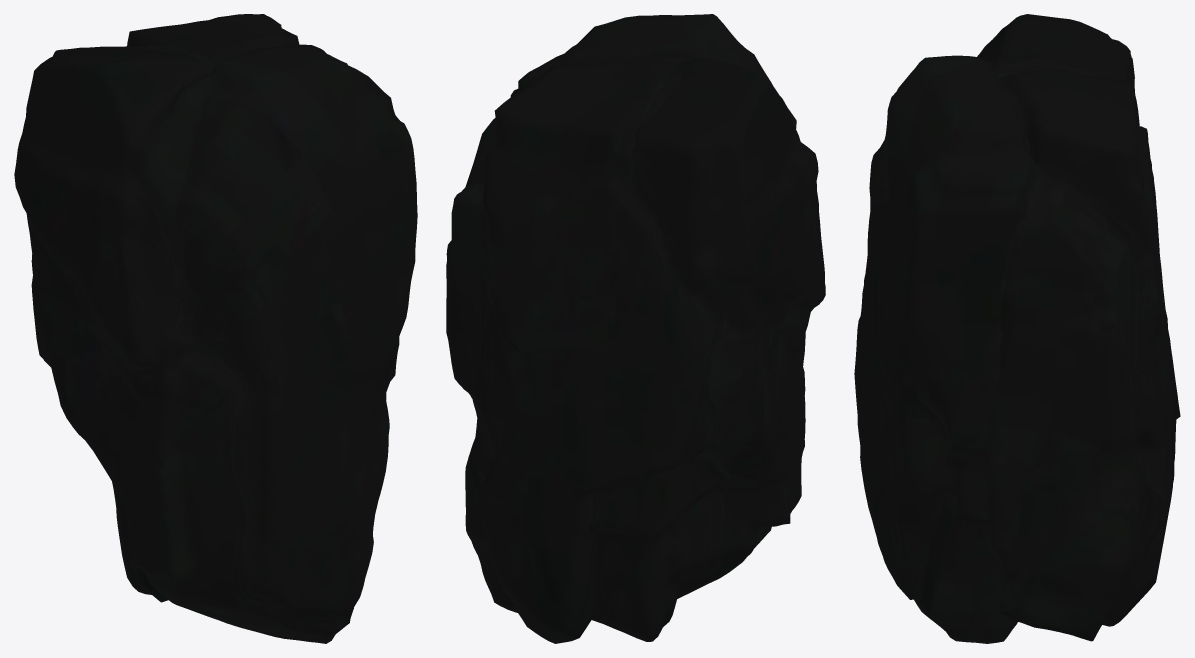
3 renders of one model, left to right at view 1: azimuth 30°, elevation 25°; view 2: azimuth 150°, elevation 25°; view 3: azimuth 270°, elevation 25°, orthographic. The views are drawn at different scales.
Visible parts, largest first — view 1: SM_LimestoneLarge_02_LOD0; view 2: SM_LimestoneLarge_02_LOD0; view 3: SM_LimestoneLarge_02_LOD0.
Boxes of the visible parts, x1,y1,x2,y2 form: SM_LimestoneLarge_02_LOD0: [14, 14, 417, 643]; SM_LimestoneLarge_02_LOD0: [446, 14, 825, 643]; SM_LimestoneLarge_02_LOD0: [854, 14, 1180, 643].
Size of the model in its own units: 8.14 by 15.03 by 8.06.
Materials: 1 (1 with a texture image).
